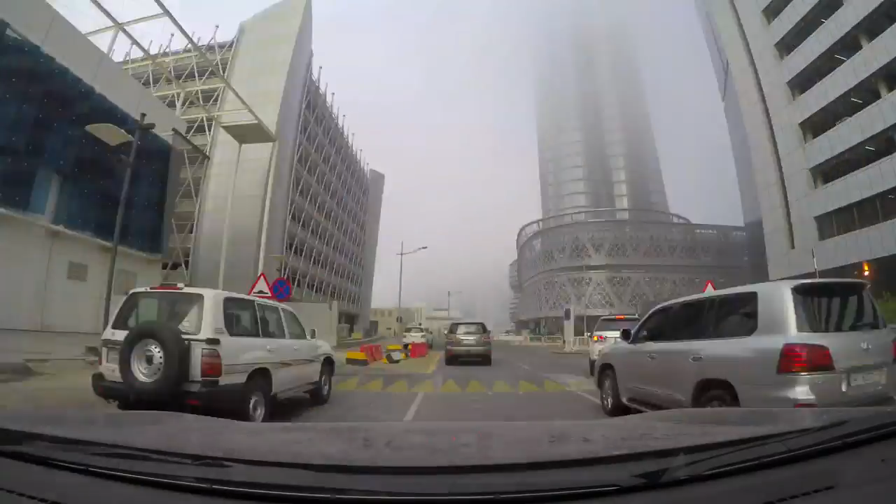car: (592, 276, 896, 425), (91, 276, 338, 423), (585, 315, 653, 378), (443, 319, 493, 367), (401, 323, 434, 352)
